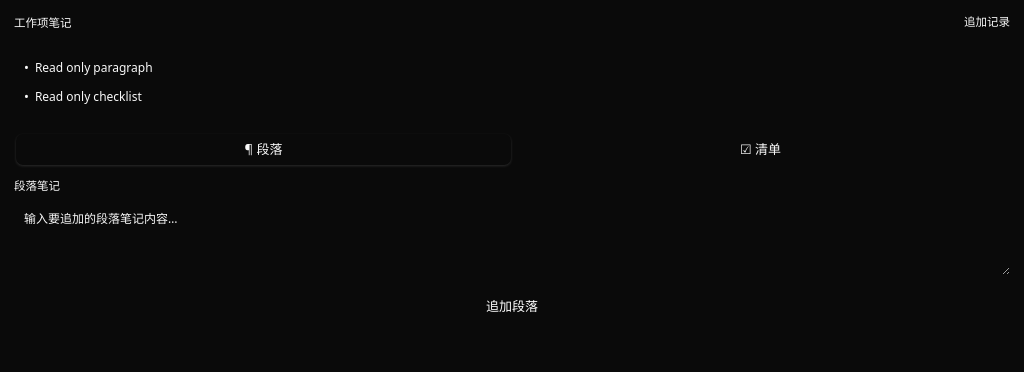
it: FocusedWorkItemNote › retains the composer draft when append fails
In the text box named "New paragraph": (512, 239) [14,202,1010,275], type "Keep this draft"
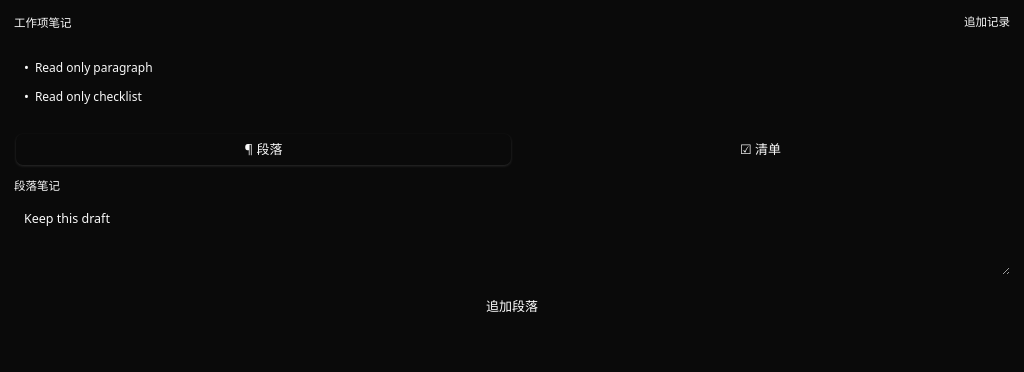
Click the button with aria-label "Append paragraph": (512, 307) [14,289,1010,325]
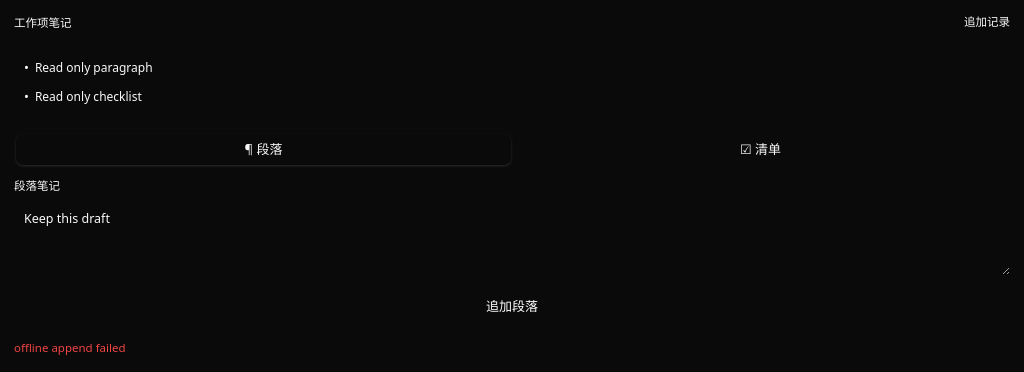
Now the message reads "offline append failed", box [14,340,126,355]
